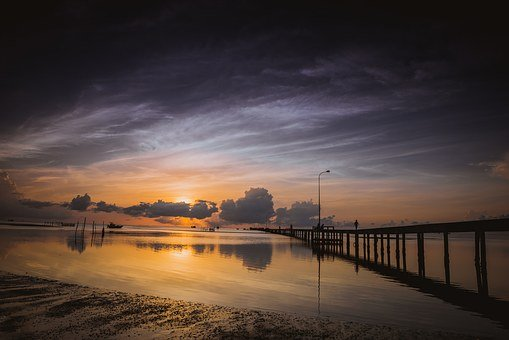sea: (7, 210, 509, 337)
sky: (1, 3, 506, 215)
